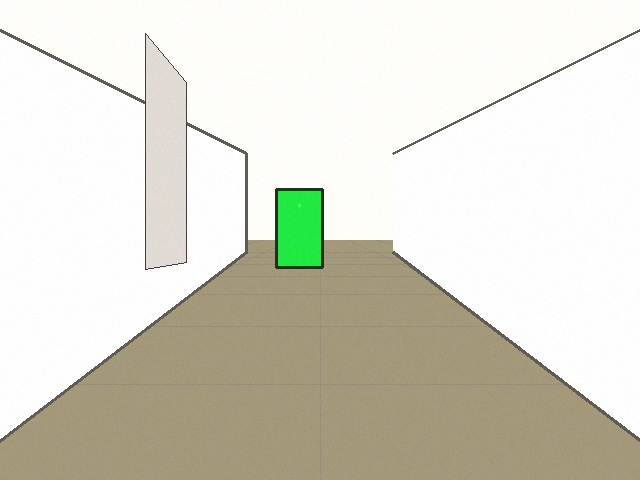charging_station: (276, 189, 322, 267)
